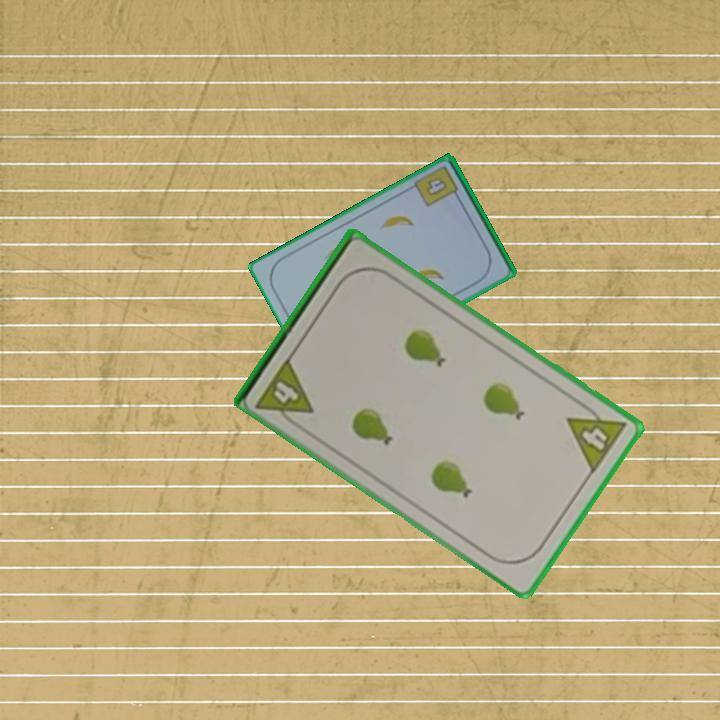4b: (412, 162, 463, 210)
4p: (563, 396, 630, 476), (252, 352, 316, 432)
